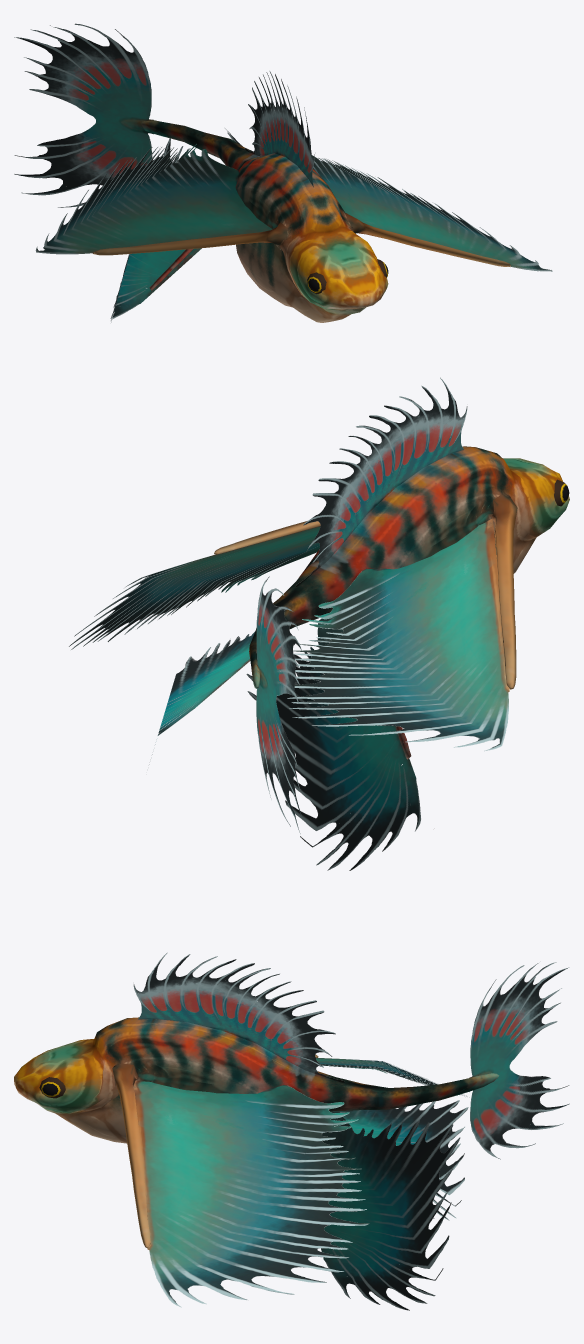
Rendered from fish_000018.obj.
The picture shows the model from 3 angles, top to bottom: view 1: azimuth 30°, elevation 25°; view 2: azimuth 150°, elevation 25°; view 3: azimuth 270°, elevation 25°; orthographic projection. The views are drawn at different scales.
Visible parts, largest first — view 1: flyingFish_low_StingrayPBS1_0; view 2: flyingFish_low_StingrayPBS1_0; view 3: flyingFish_low_StingrayPBS1_0.
Boxes of the visible parts, <box> form: flyingFish_low_StingrayPBS1_0: <box>14,23,552,322</box>; flyingFish_low_StingrayPBS1_0: <box>69,377,569,870</box>; flyingFish_low_StingrayPBS1_0: <box>14,952,569,1310</box>.
Size of the model in its own units: 16.84 by 12.54 by 18.88.
Materials: 1 (1 with a texture image).
